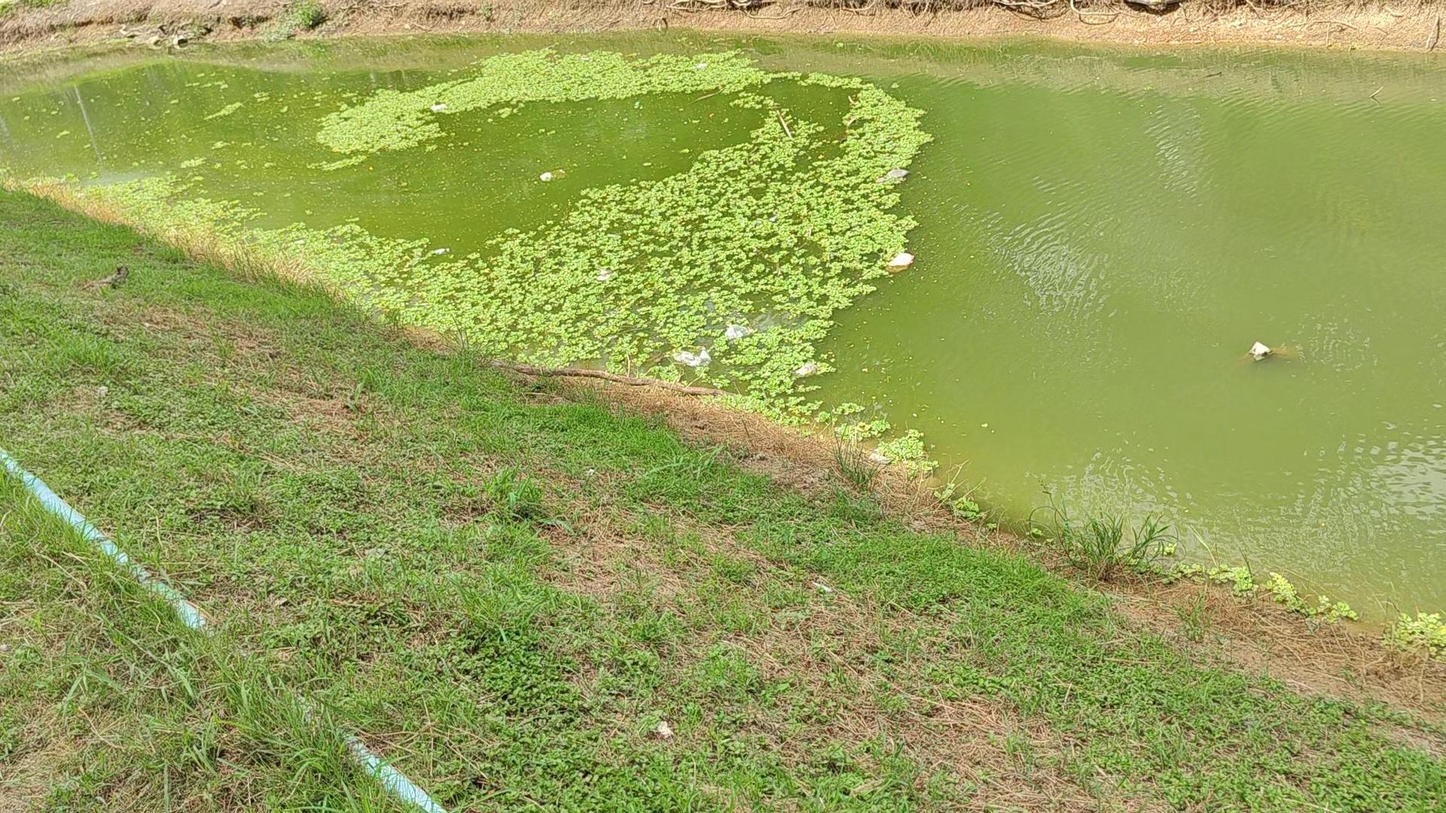trash: (674, 349, 710, 367), (887, 252, 914, 272), (725, 324, 753, 339), (1249, 341, 1271, 360), (876, 169, 908, 182), (795, 362, 819, 376), (539, 171, 562, 181), (597, 268, 612, 281), (431, 103, 446, 111), (432, 248, 449, 255), (695, 62, 707, 69)
